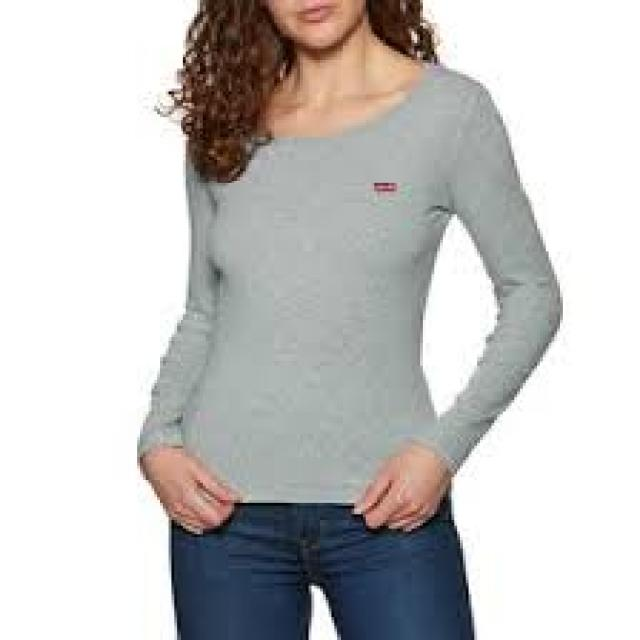plain: (148, 65, 567, 515)
